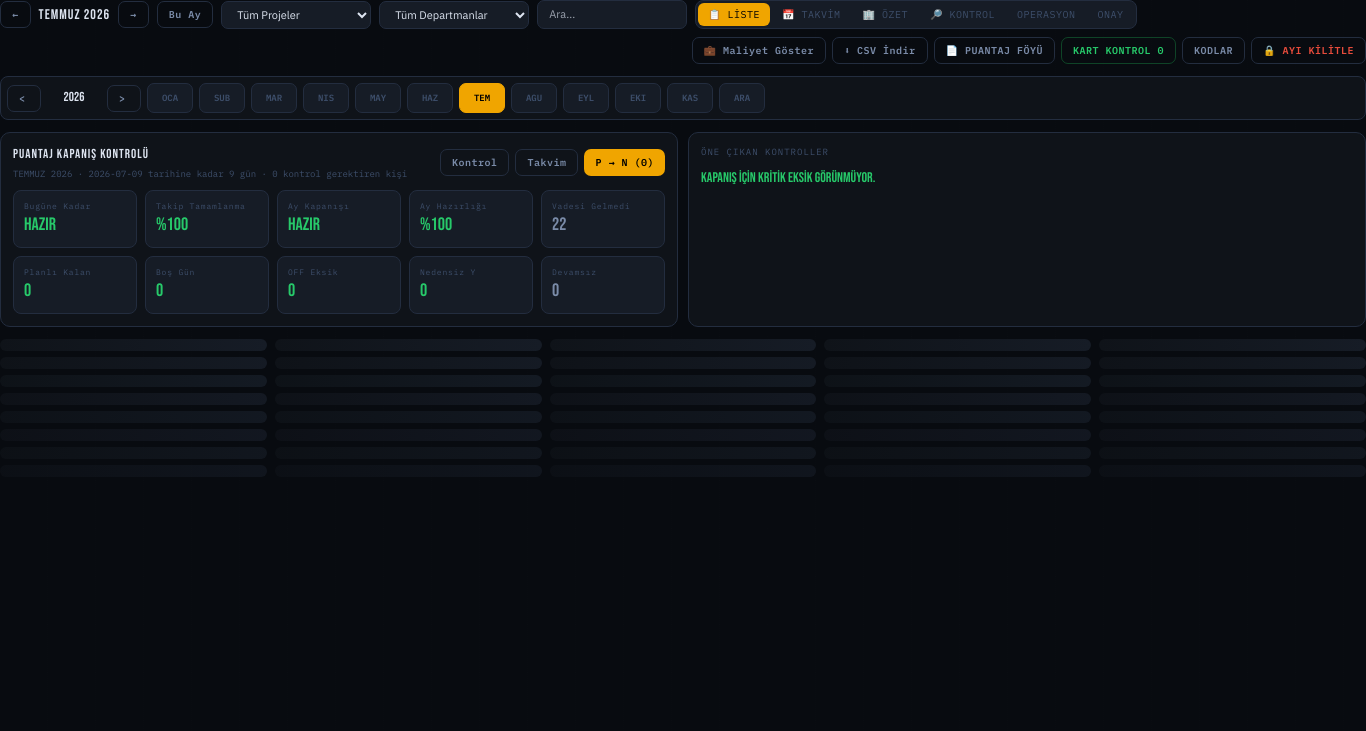
Test case: PuantajTab smoke › onay masasında departman onay matrisi görünür (P4)
The width and height of the screenshot is (1366, 731).
Click the button "ONAY" at (1110, 14), box [1088,3,1134,26]
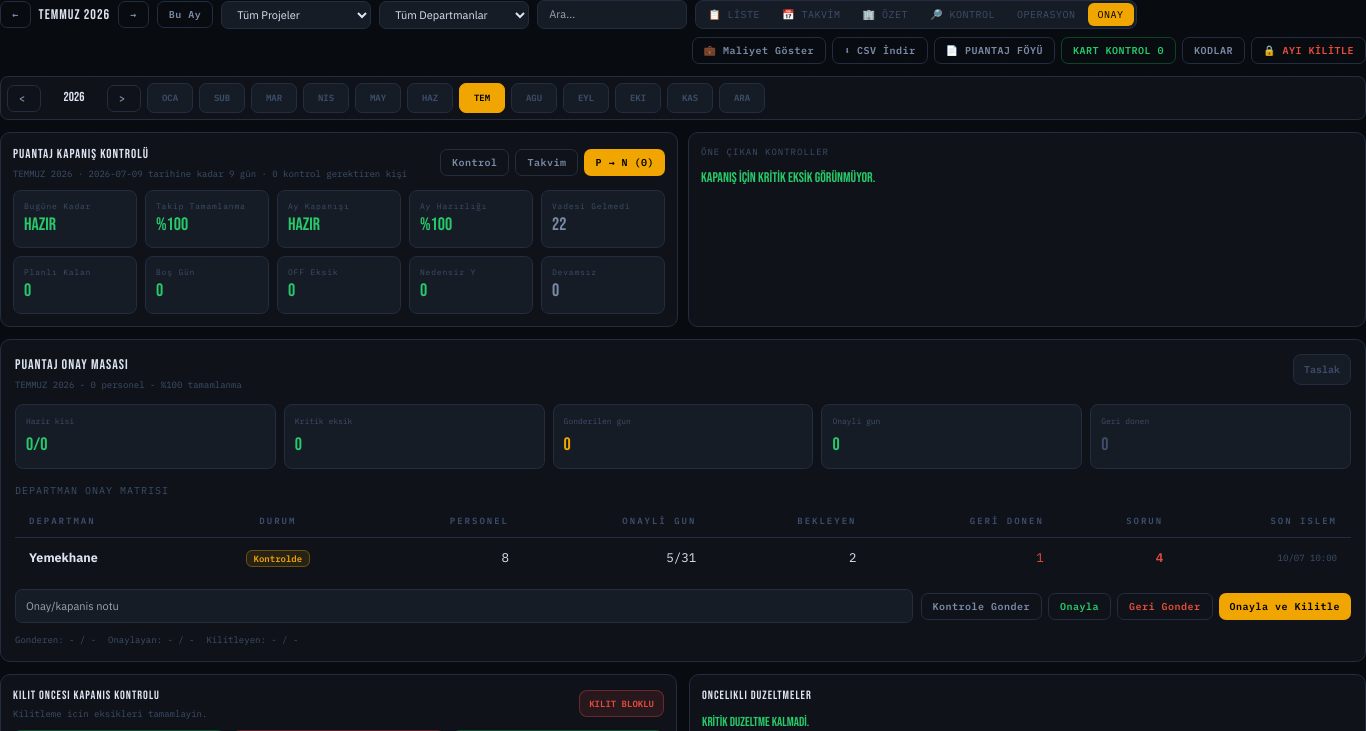
expect the text "DEPARTMAN ONAY MATRISI" is shown: met, box [15,484,169,496]
expect the text "Yemekhane" is shown: met, box [15,538,193,577]
expect the text "5/31" is shown: met, box [523,538,710,577]
